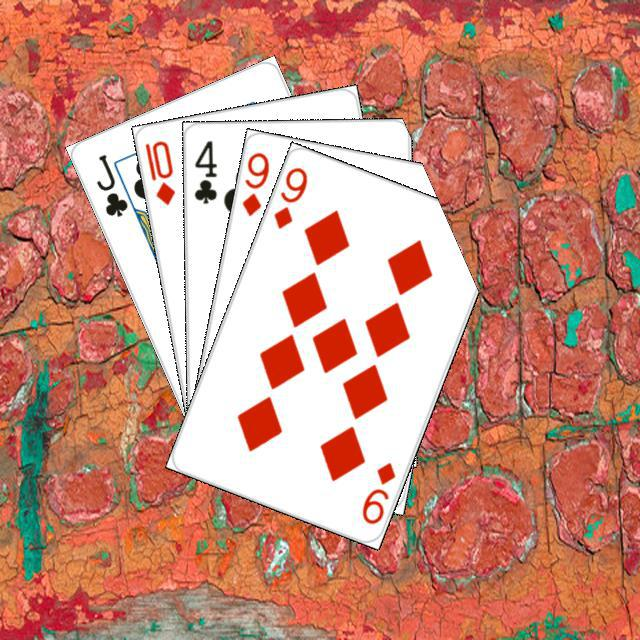10d: (140, 135, 177, 207)
4c: (189, 136, 219, 206)
9d: (268, 162, 310, 231), (356, 457, 397, 526), (237, 147, 271, 218)
Jc: (91, 149, 130, 219)
